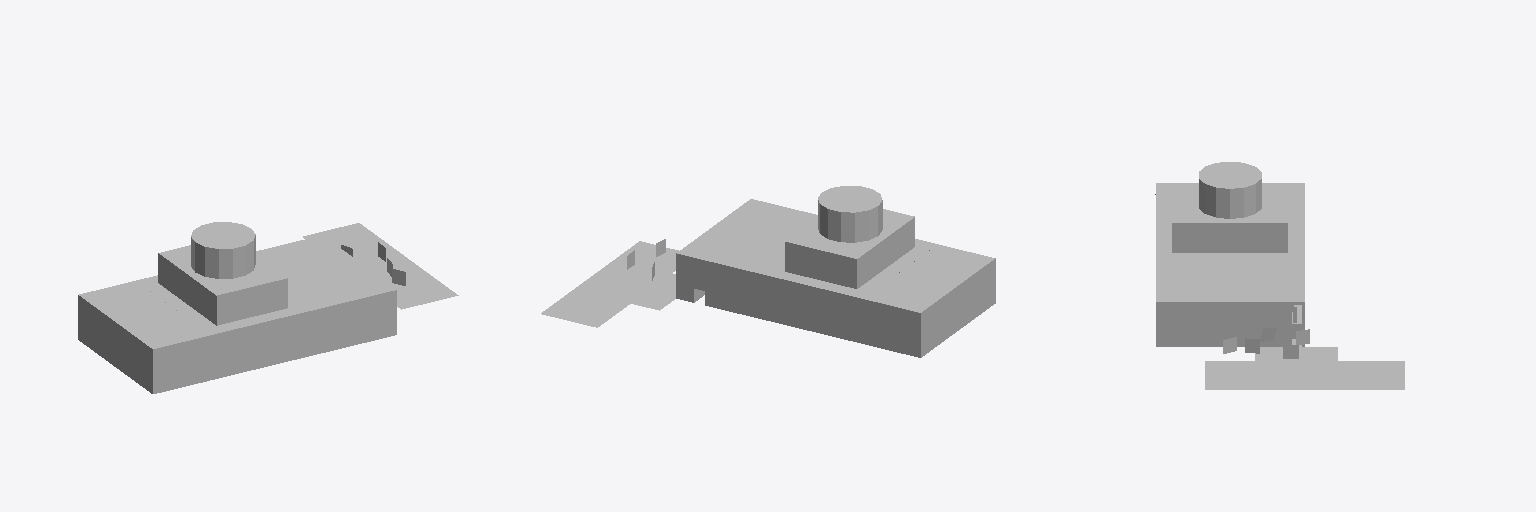
The model's file is bar.obj.
The picture shows the model from 3 angles: view 1: azimuth 30°, elevation 25°; view 2: azimuth 150°, elevation 25°; view 3: azimuth 270°, elevation 25°; orthographic projection.
Parts seen in each view (by area): view 1: mesh_2, mesh_1, mesh_1.4, mesh_0; view 2: mesh_2, mesh_1, mesh_1.4, mesh_0; view 3: mesh_2, mesh_0, mesh_1.4, mesh_1.
Boxes of the visible parts, x1,y1,x2,y2 form: mesh_2: [78, 222, 310, 393]; mesh_1: [256, 240, 378, 355]; mesh_1.4: [303, 223, 458, 309]; mesh_0: [305, 235, 396, 338]; mesh_2: [763, 186, 995, 357]; mesh_1: [694, 203, 817, 319]; mesh_1.4: [541, 241, 678, 327]; mesh_0: [676, 199, 767, 302]; mesh_2: [1155, 162, 1304, 259]; mesh_0: [1156, 293, 1304, 346]; mesh_1.4: [1205, 347, 1404, 389]; mesh_1: [1156, 260, 1304, 323].
Size of the model in its own units: 2416 by 736 by 1576.